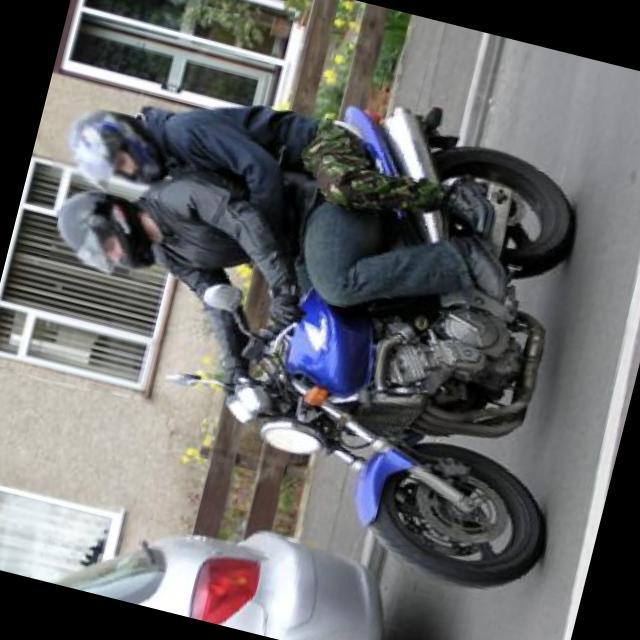With Helmet: (49, 100, 175, 202), (48, 185, 168, 284)
